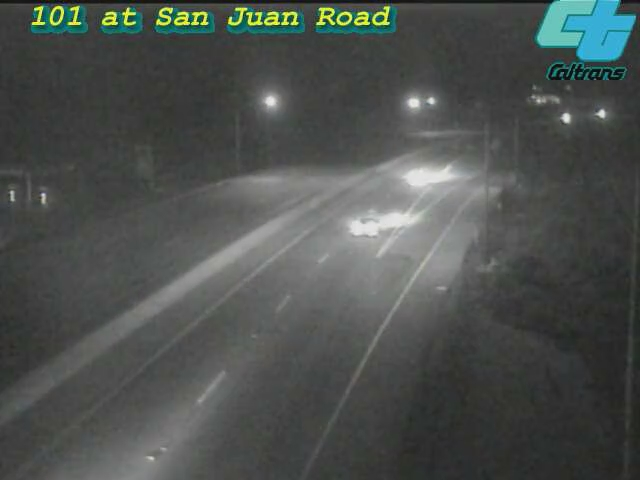vehicle: (379, 137, 459, 217), (324, 186, 404, 266), (541, 93, 591, 143), (577, 90, 627, 140)
